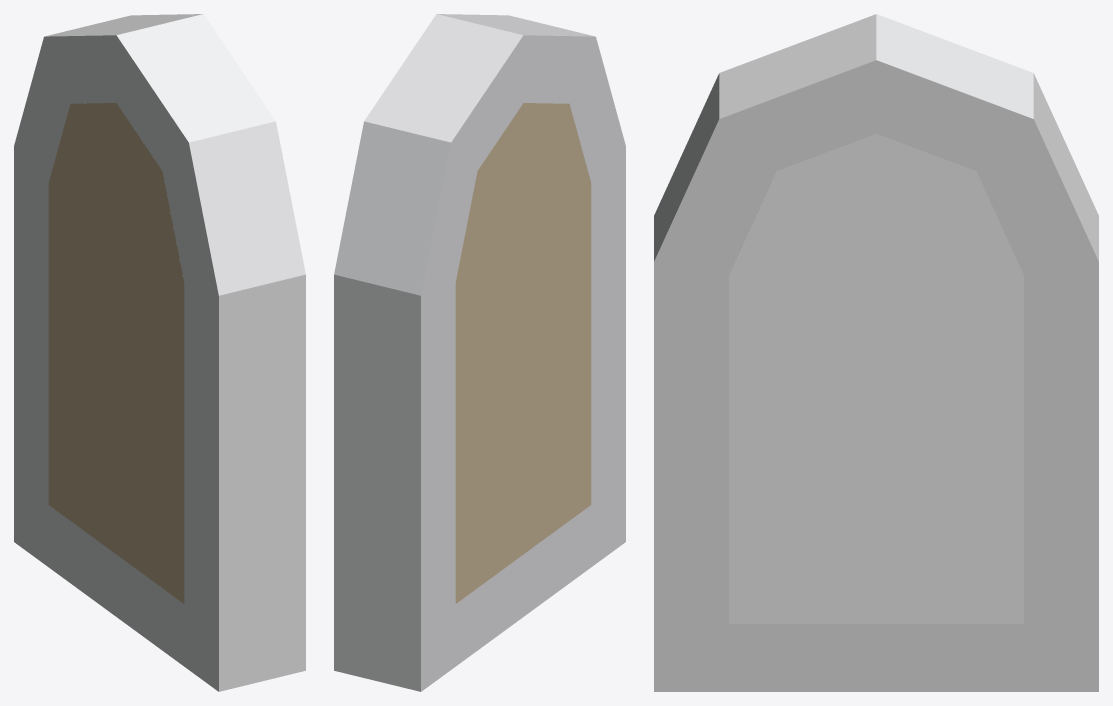
Rendered from Iron_Door_01.glb.
3 views of the same model, side by side, from view 1: azimuth 30°, elevation 25°; view 2: azimuth 150°, elevation 25°; view 3: azimuth 270°, elevation 25° (orthographic). The views are drawn at different scales.
Visible parts, largest first — view 1: Iron_Door_01; view 2: Iron_Door_01; view 3: Iron_Door_01.
Part boxes in pixels (x1,y1,x2,y2): Iron_Door_01: (14,14,305,691); Iron_Door_01: (334,14,625,691); Iron_Door_01: (654,14,1098,691).
Size of the model in its own units: 0.3 by 1.92 by 1.22.
